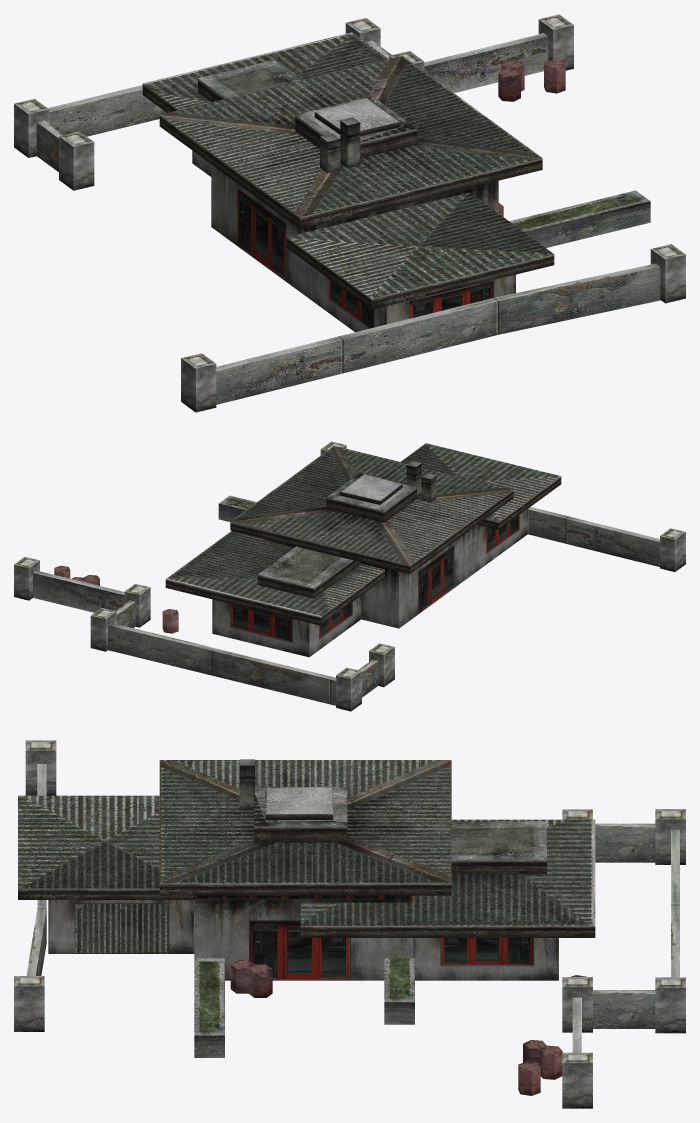
Rendered from BigLowPolyHouse.FBX.
3 views of the same model, one above another, from view 1: azimuth 30°, elevation 25°; view 2: azimuth 150°, elevation 25°; view 3: azimuth 270°, elevation 25° (orthographic). The views are drawn at different scales.
Parts seen in each view (by area): view 1: Object03, HouseExteriorParts; view 2: Object03, HouseExteriorParts; view 3: Object03, HouseExteriorParts.
Boxes of the visible parts, x1=… form: Object03: x1=59, y1=32, x2=554, y2=332; HouseExteriorParts: x1=14, y1=14, x2=685, y2=412; Object03: x1=165, y1=443, x2=561, y2=687; HouseExteriorParts: x1=14, y1=441, x2=685, y2=711; Object03: x1=18, y1=759, x2=595, y2=997; HouseExteriorParts: x1=14, y1=740, x2=685, y2=1108.
Size of the model in its own units: 41.89 by 9.6 by 36.84.
